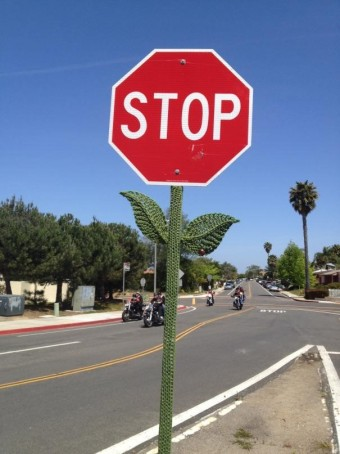SS: (107, 49, 253, 188)
